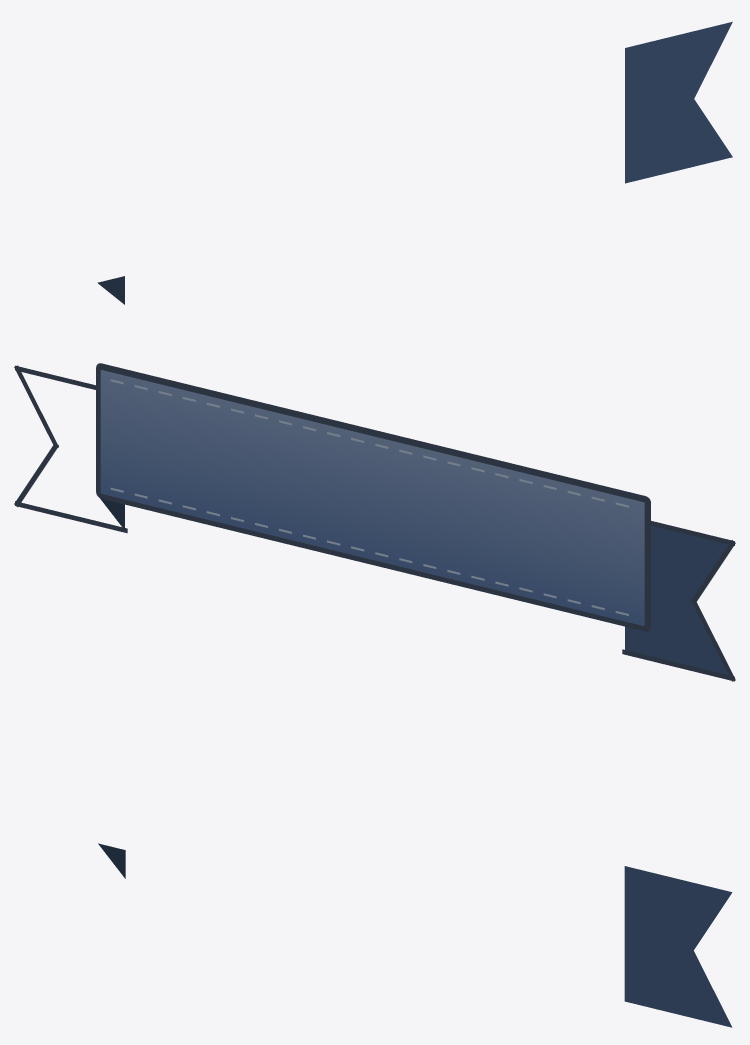
File: ui_ribbon_small.glb
The picture shows the model from 3 angles, top to bottom: view 1: azimuth 30°, elevation 25°; view 2: azimuth 150°, elevation 25°; view 3: azimuth 330°, elevation 25°; orthographic projection.
Visible parts, largest first — view 1: ui_ribbon_small; view 2: ui_ribbon_small; view 3: ui_ribbon_small.
Boxes of the visible parts, x1,y1,x2,y2 form: ui_ribbon_small: (97, 21, 732, 304); ui_ribbon_small: (14, 363, 735, 681); ui_ribbon_small: (98, 843, 732, 1027).
Bounding box in the file's own units: 0.7805 × 0.1714 × 0.0051.
